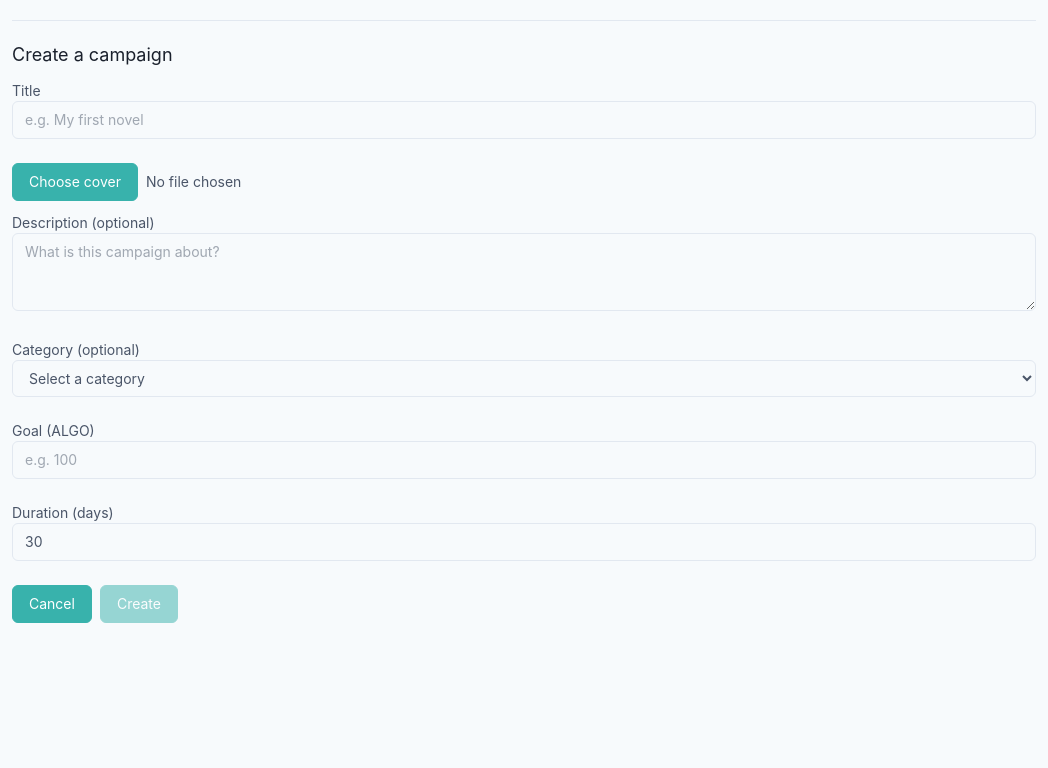
Test: CreateCampaignForm › shows an error when creation fails
Type "My first novel" into the field labelled "Title" at (524, 120), box [12,101,1036,139]
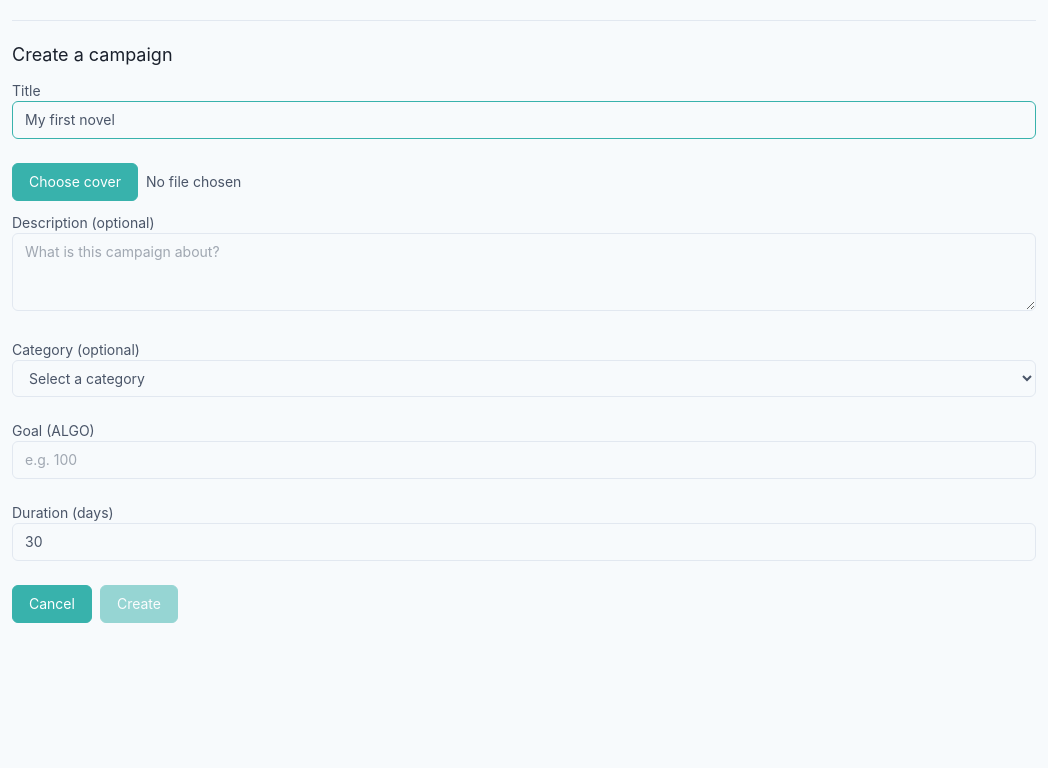
Type "10" into the number field with placeholder "e.g. 100" at (524, 460), box [12,441,1036,479]
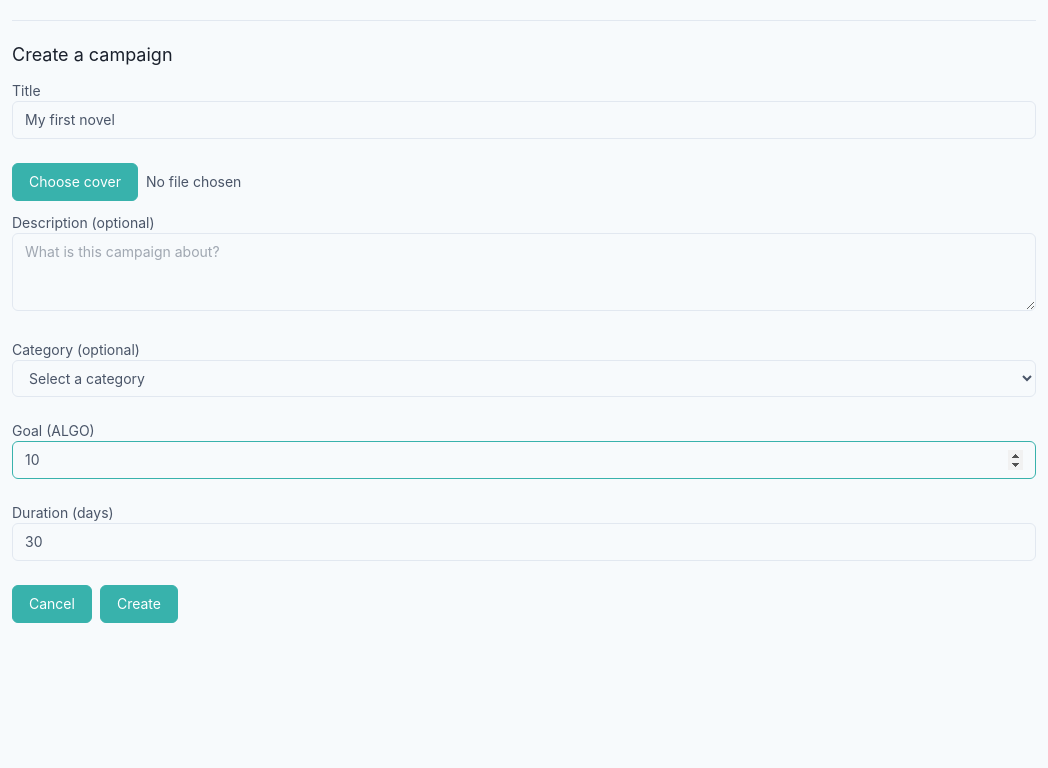
Click the button "Create" at (139, 604), box [100,585,178,623]
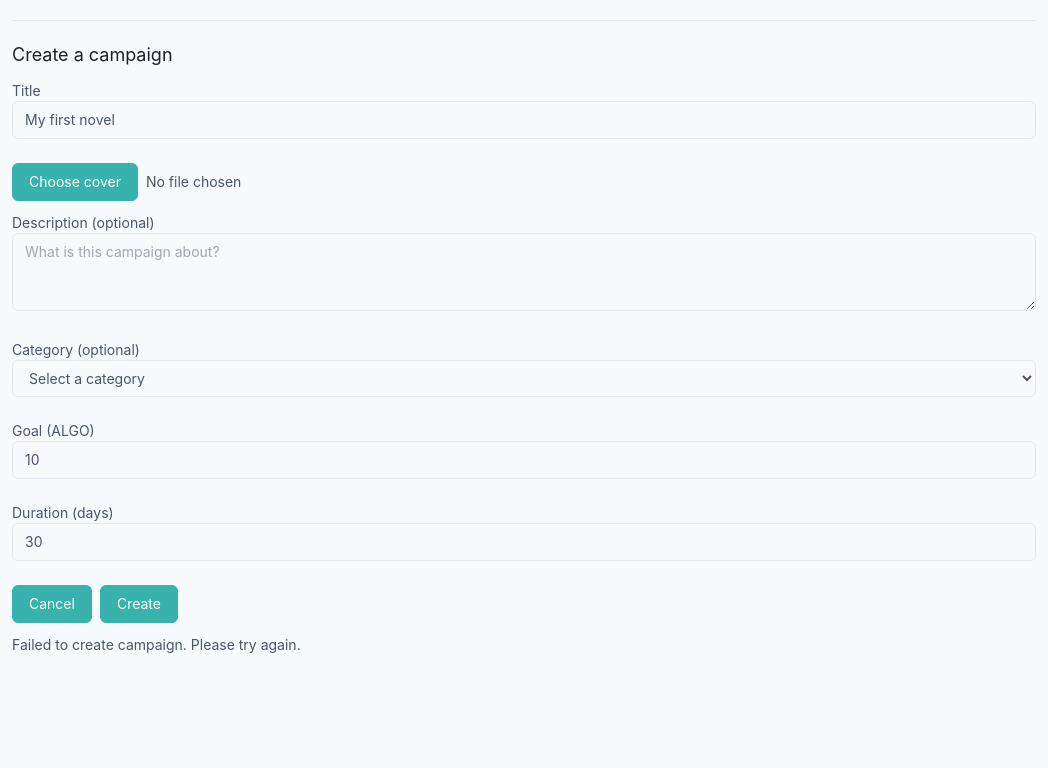
Now the text "Failed to create campaign. Please try again." is shown, box [12,636,301,653]
